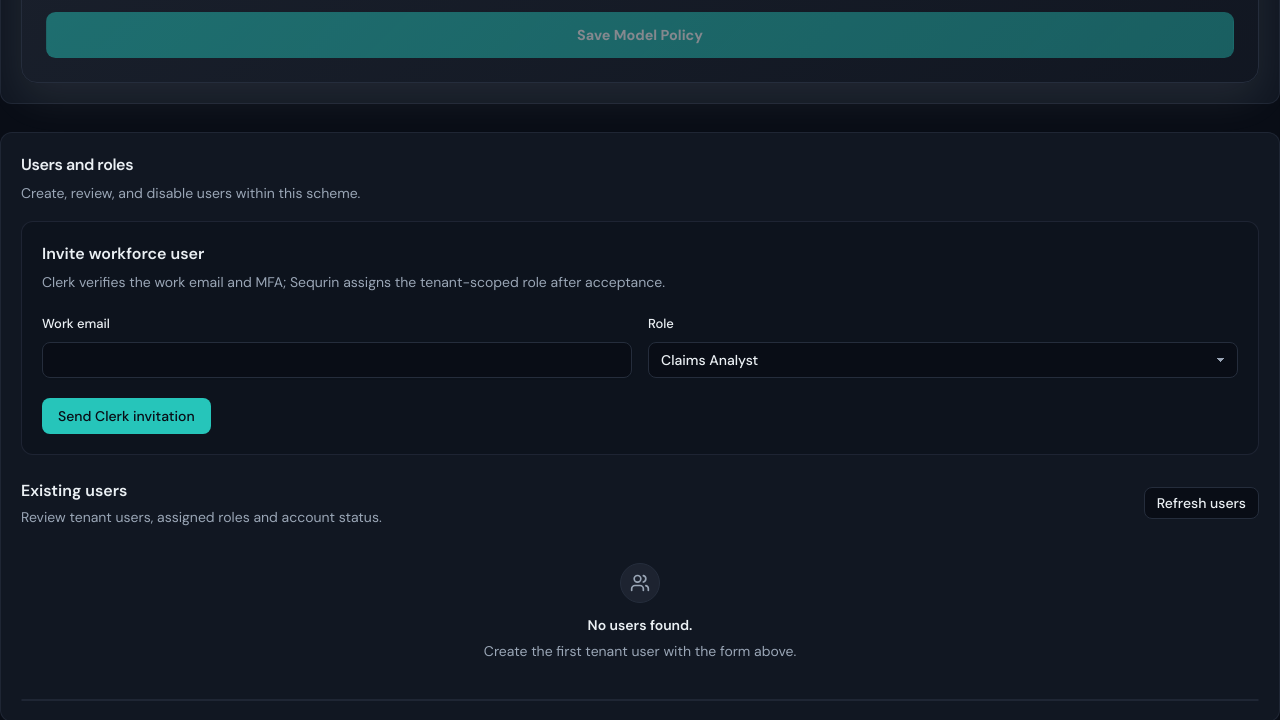
Scenario: SchemeAdminPage › serializes the Clerk workforce invitation without local credentials
The width and height of the screenshot is (1280, 720).
(page scrolled)
expect the text "No users found." is shown: met, box [588,615,692,635]
In the field labelled "Work email": (337, 360) [42,342,632,378], type "analyst@ubuntu.example"
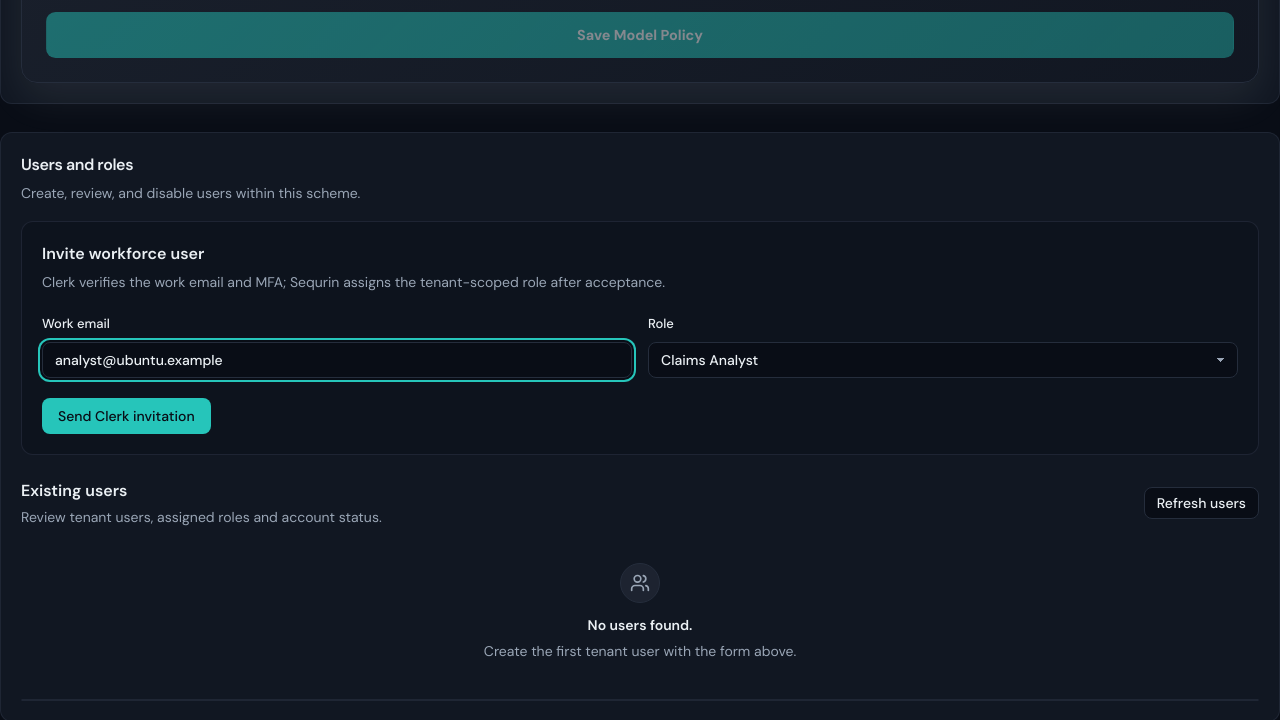
Select "Fraud Analyst" in the dropdown labelled "Role": (943, 360) [648,342,1238,378]
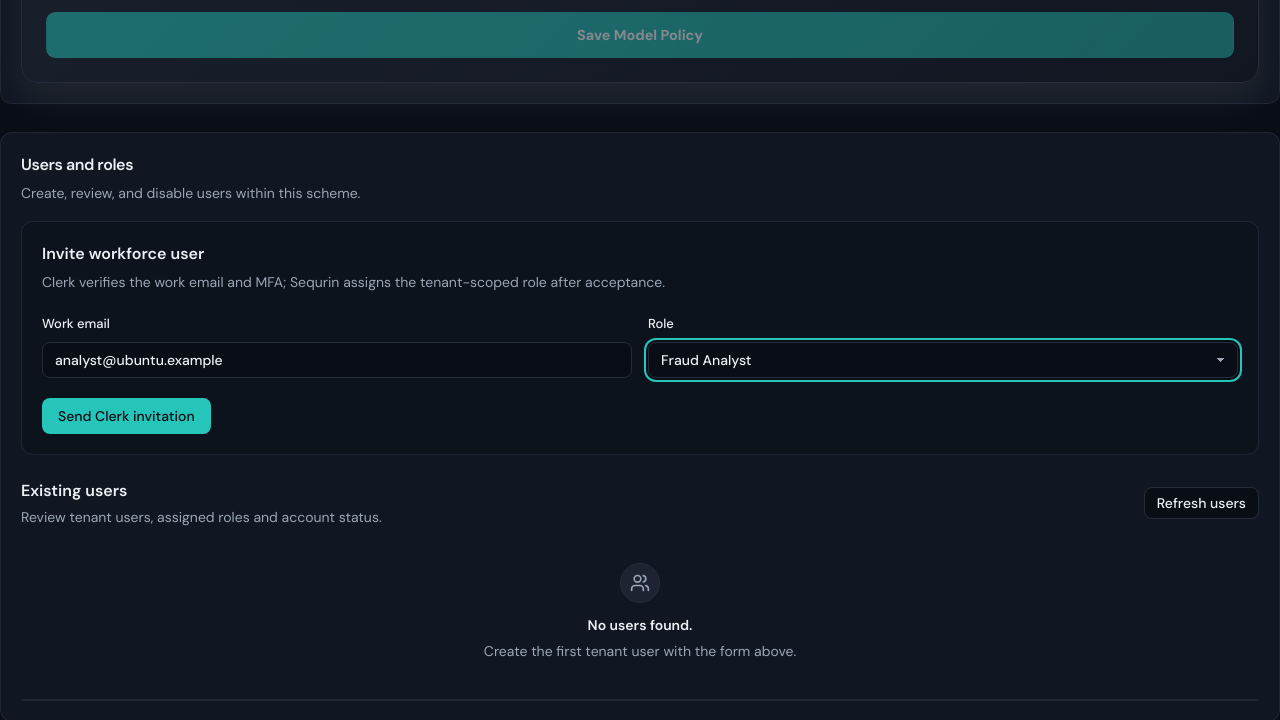
Click the button "Send Clerk invitation": (126, 416) [42,398,211,434]
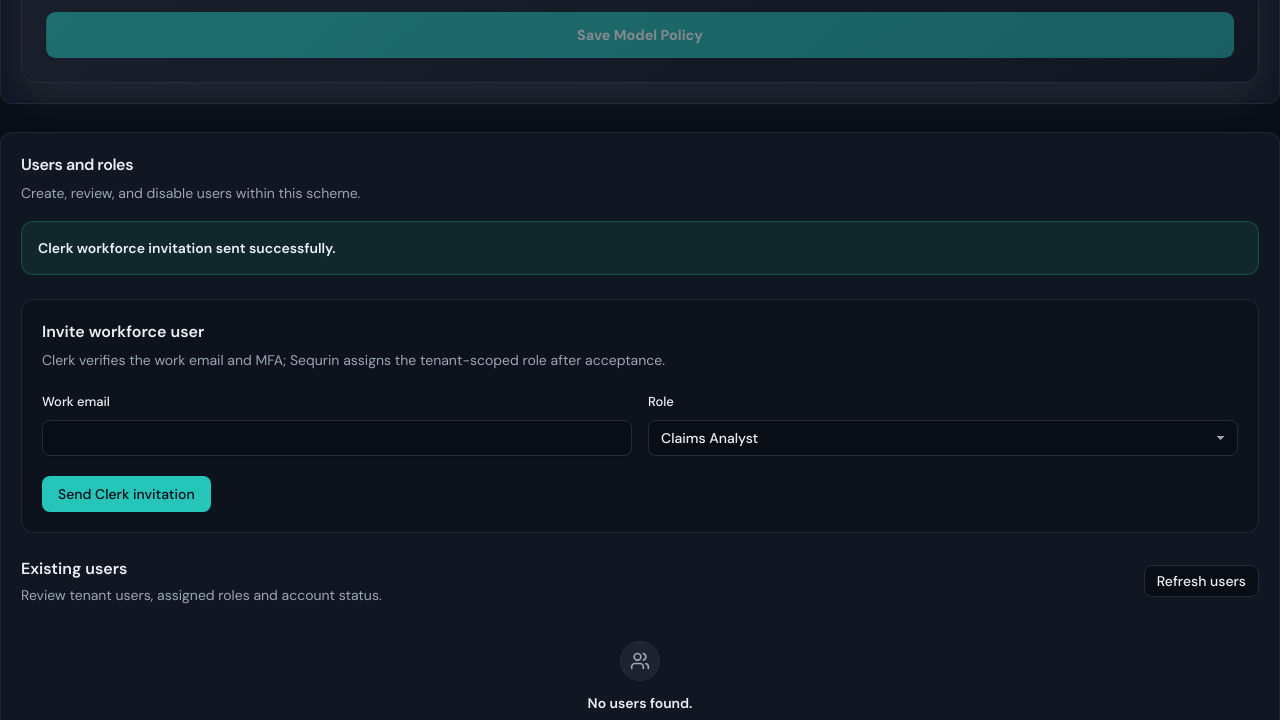
expect the text "Clerk workforce invitation sent successfully." is shown: met, box [38,238,336,258]
